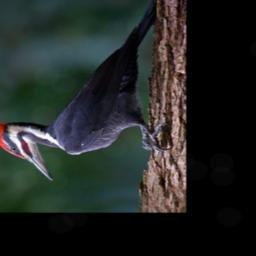Woodpecker: (0, 0, 173, 181)
